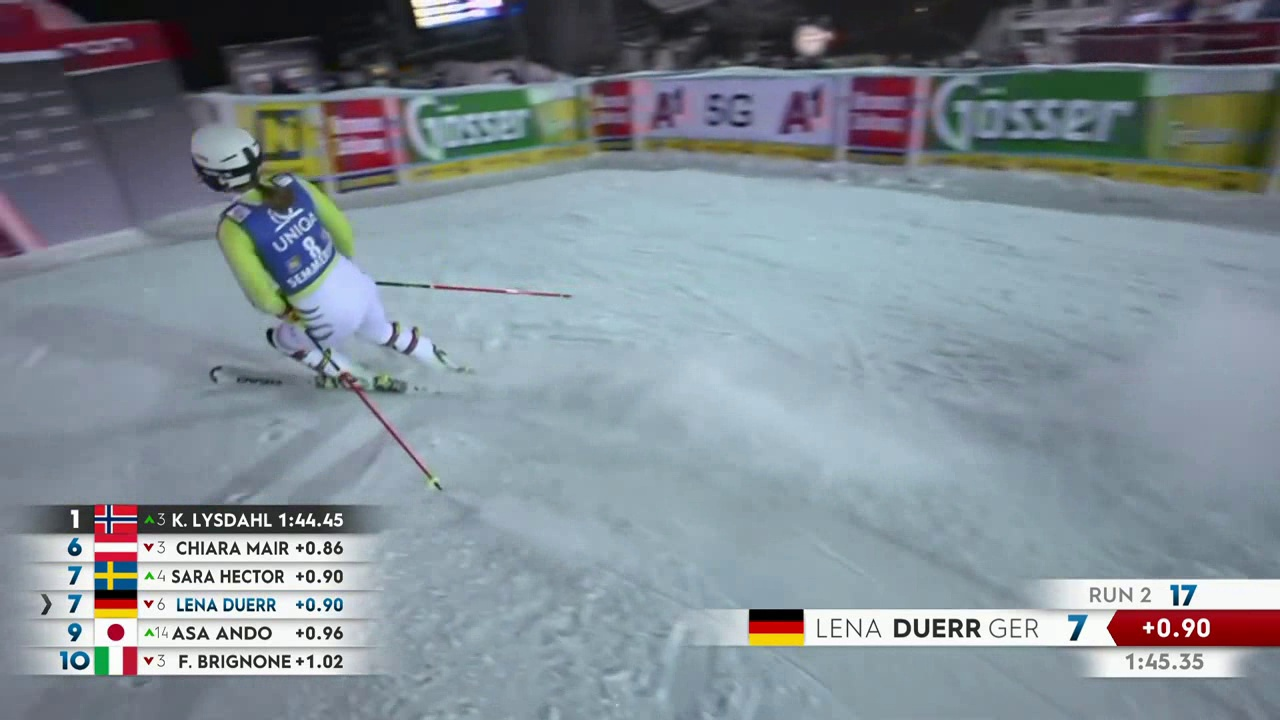a1: (776, 88, 833, 140), (647, 85, 696, 134)
goesser: (939, 83, 1155, 158), (410, 90, 573, 160)
kronenzeitung: (853, 89, 911, 150)
